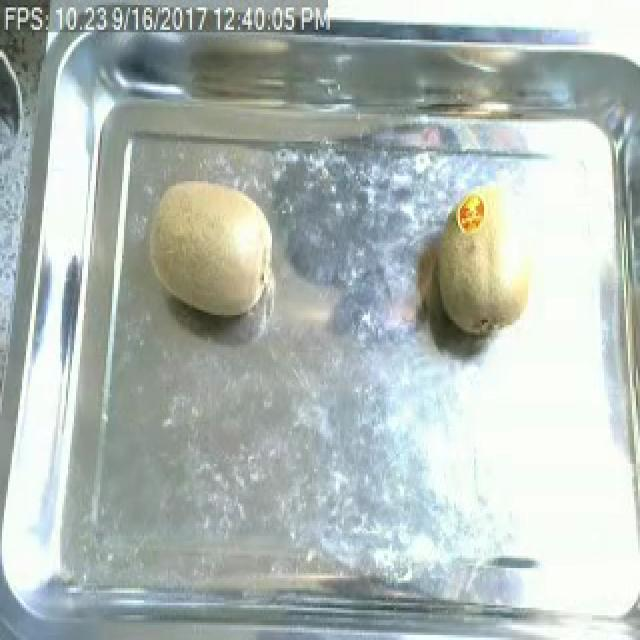Fruit: (132, 171, 280, 330), (416, 176, 548, 342)
